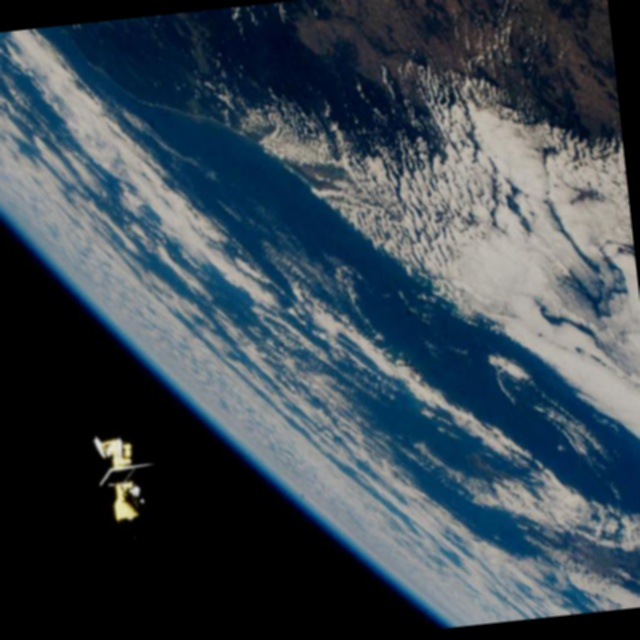satellite: (86, 420, 184, 542)
